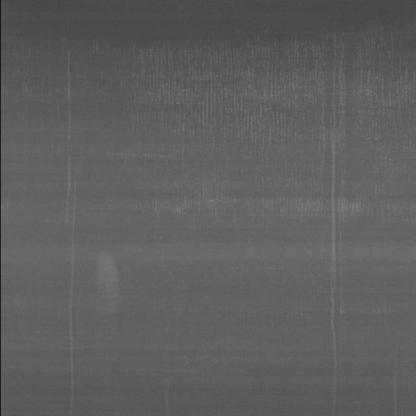waist_folding: (13, 33, 401, 387)
